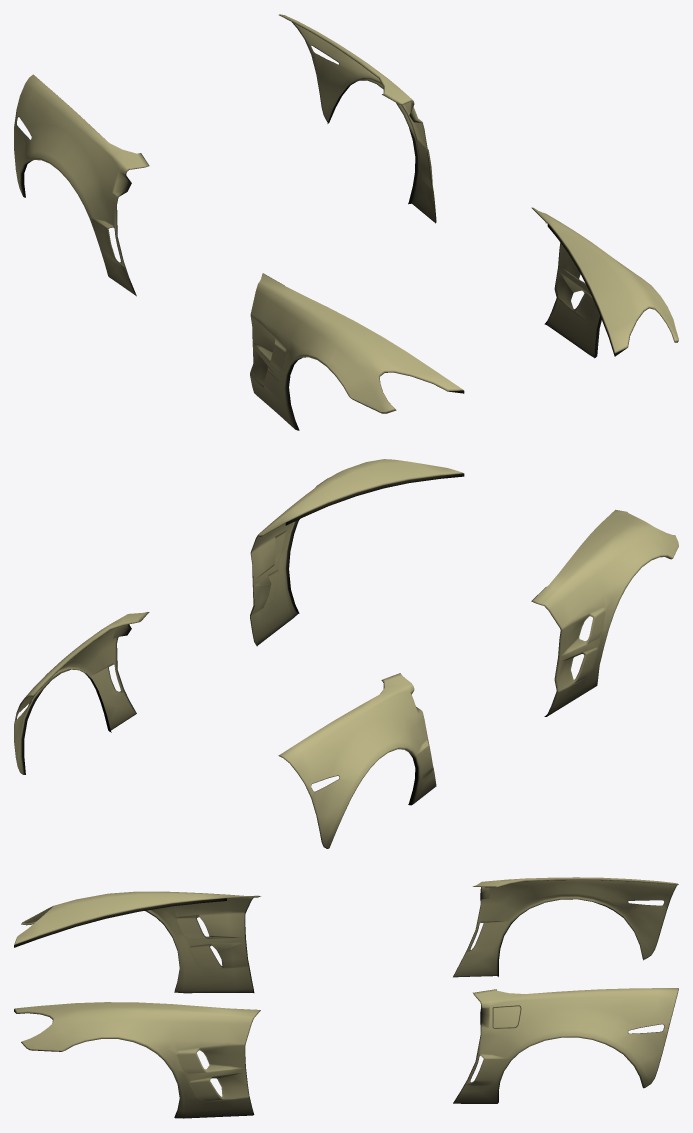
File: Zr1_Fender_01_Duco.fbx
3 renders of one model, top to bottom at view 1: azimuth 30°, elevation 25°; view 2: azimuth 150°, elevation 25°; view 3: azimuth 270°, elevation 25°, orthographic. The views are drawn at different scales.
Parts seen in each view (by area): view 1: Zr1_Fender_01_Duco; view 2: Zr1_Fender_01_Duco; view 3: Zr1_Fender_01_Duco.
Part boxes in pixels (x1,y1,x2,y2): Zr1_Fender_01_Duco: (14,14,678,430); Zr1_Fender_01_Duco: (14,459,678,848); Zr1_Fender_01_Duco: (14,877,678,1118).
Size of the model in its own units: 193 by 78.4 by 387.
